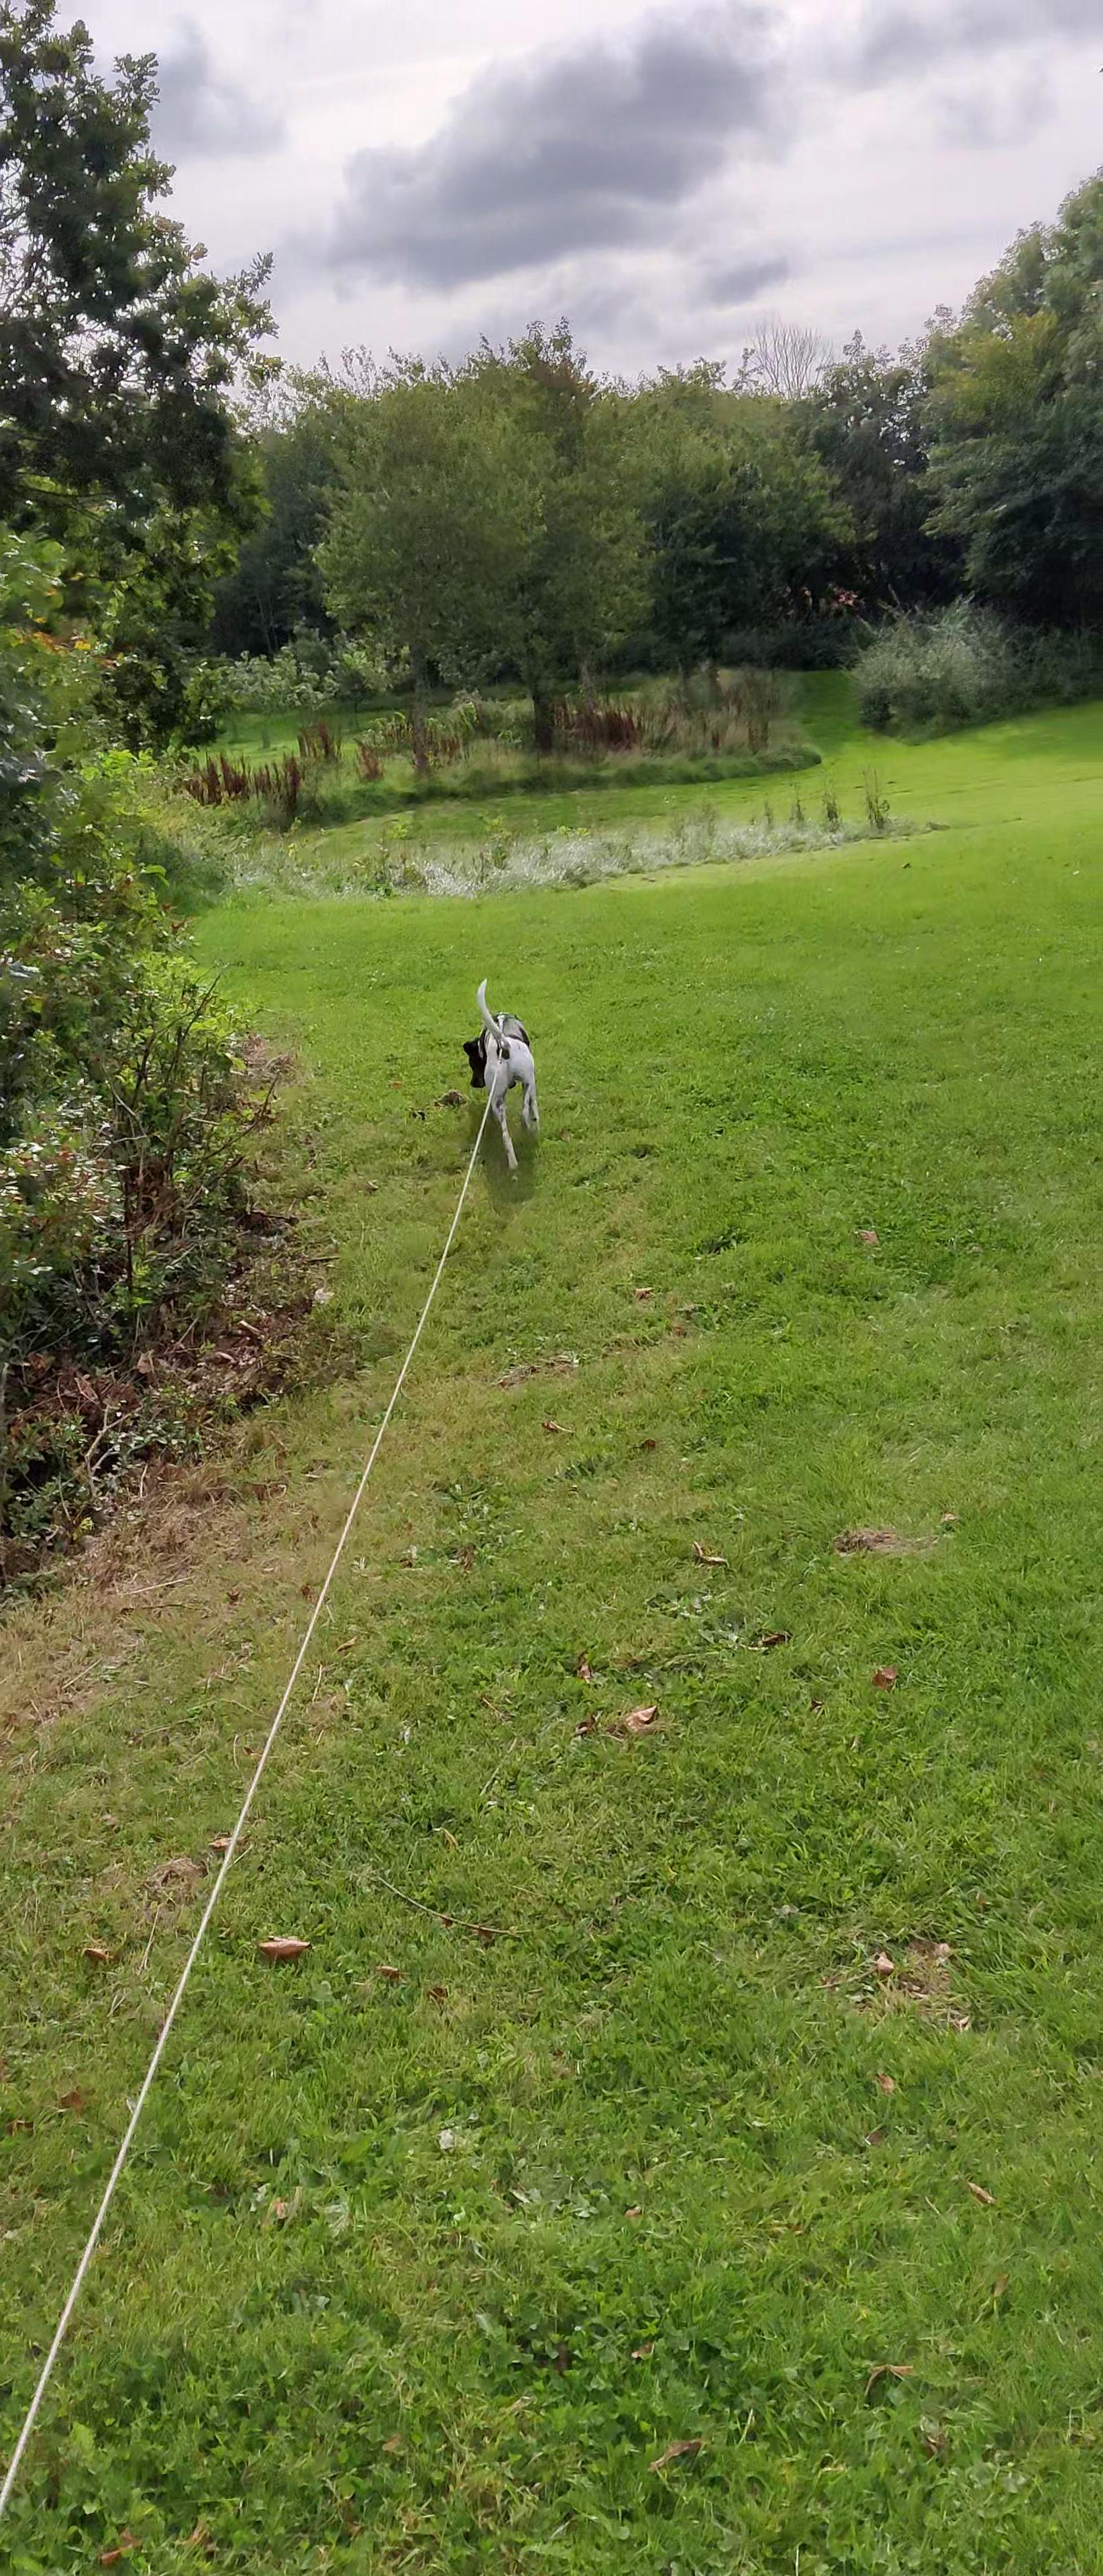Dog: (460, 971, 551, 1196)
